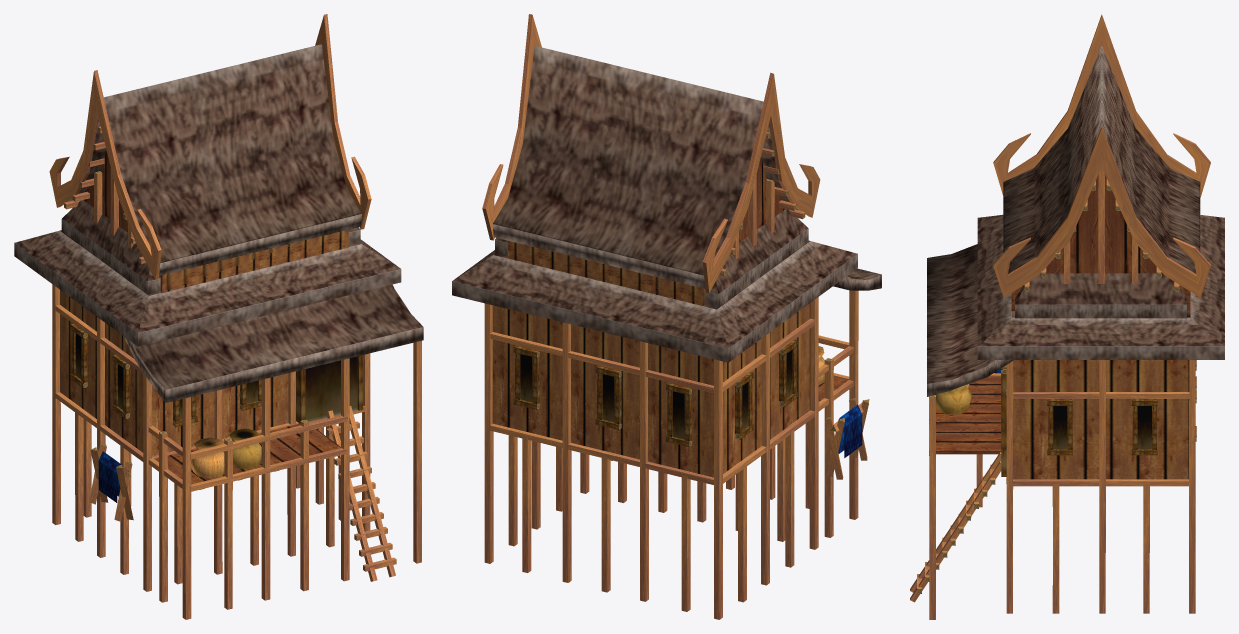
File: house_4.dae
The picture shows the model from 3 angles, left to right: view 1: azimuth 30°, elevation 25°; view 2: azimuth 150°, elevation 25°; view 3: azimuth 270°, elevation 25°; orthographic projection. The views are drawn at different scales.
Parts seen in each view (by area): view 1: house_4; view 2: house_4; view 3: house_4.
Part boxes in pixels (left/top/right/bottom): house_4: left=14, top=14, right=423, bottom=619; house_4: left=452, top=14, right=881, bottom=619; house_4: left=910, top=14, right=1224, bottom=619.
Bounding box in the file's own units: 11.42 × 11.08 × 18.95.
